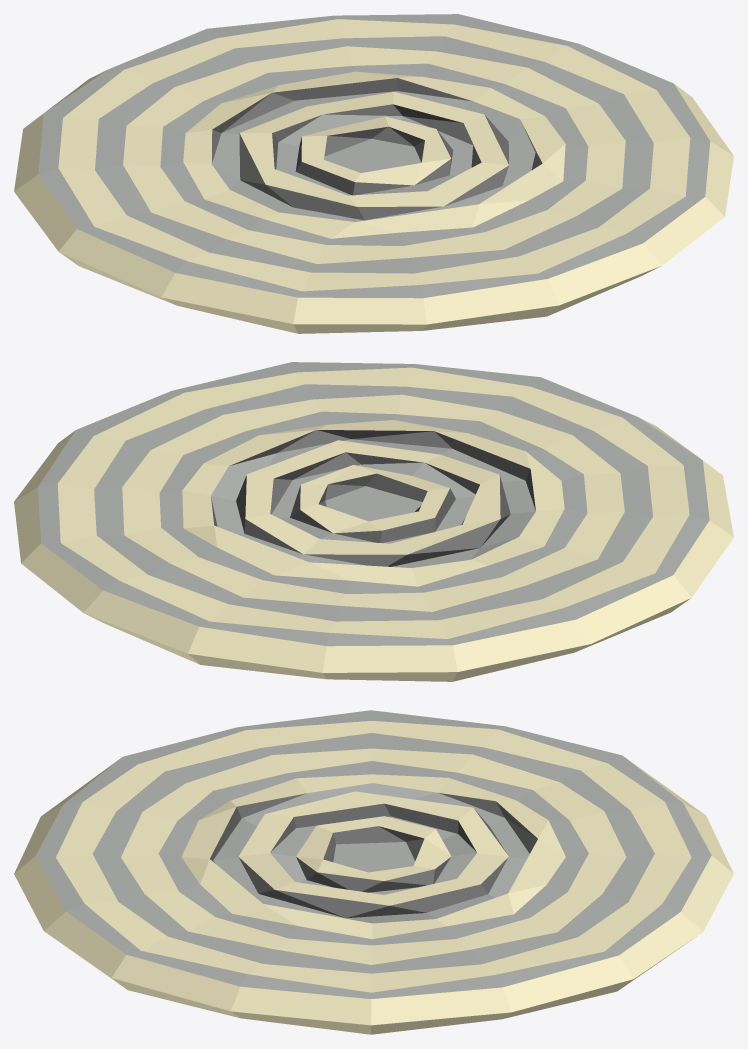
The model's file is Onion Slice.fbx.
3 views of the same model, one above another, from view 1: azimuth 30°, elevation 25°; view 2: azimuth 150°, elevation 25°; view 3: azimuth 270°, elevation 25° (orthographic).
Parts seen in each view (by area): view 1: Onion Slice; view 2: Onion Slice; view 3: Onion Slice.
Boxes of the visible parts, box(x1,y1,x2,y2) form: Onion Slice: box(14, 14, 733, 333); Onion Slice: box(14, 362, 733, 681); Onion Slice: box(14, 710, 733, 1034).
Size of the model in its own units: 7.82 by 0.5946 by 7.78.
